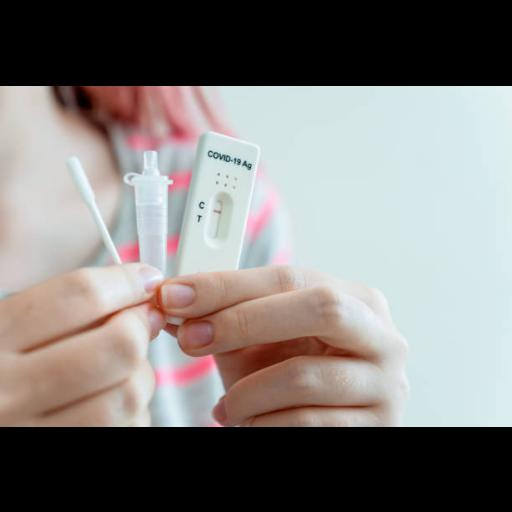Neg: (176, 130, 262, 272)
